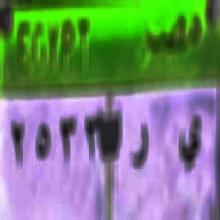2: (10, 119, 27, 173)
3: (57, 109, 79, 181), (82, 110, 102, 169)
5: (34, 118, 51, 171)
raa: (128, 120, 152, 180)
yaa: (177, 110, 202, 180)
